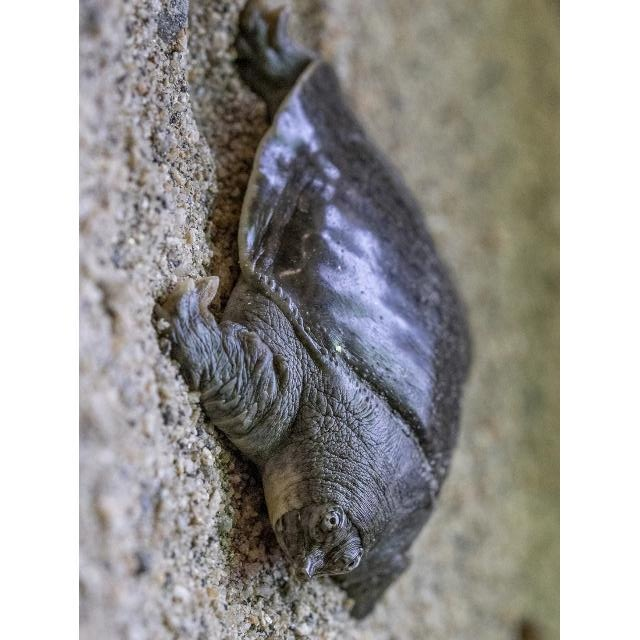turtle: (155, 2, 474, 622)
